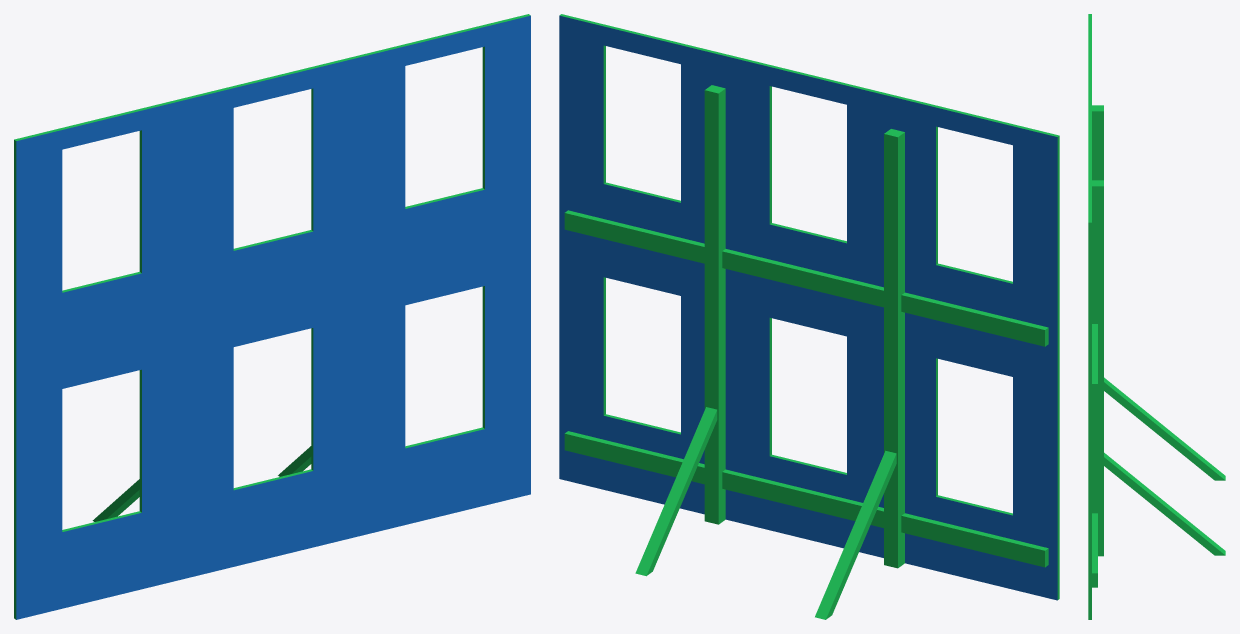
The model's file is SM_plywood_fence_6.fbx.
3 views of the same model, side by side, from view 1: azimuth 30°, elevation 25°; view 2: azimuth 150°, elevation 25°; view 3: azimuth 270°, elevation 25° (orthographic). The views are drawn at different scales.
Parts seen in each view (by area): view 1: Cube_9; view 2: Cube_9; view 3: Cube_9.
Boxes of the visible parts, left/top/right/bottom form: Cube_9: left=14, top=14, right=530, bottom=619; Cube_9: left=559, top=14, right=1059, bottom=619; Cube_9: left=1088, top=14, right=1225, bottom=619.
Bounding box in the file's own units: 450 × 400 × 125.
